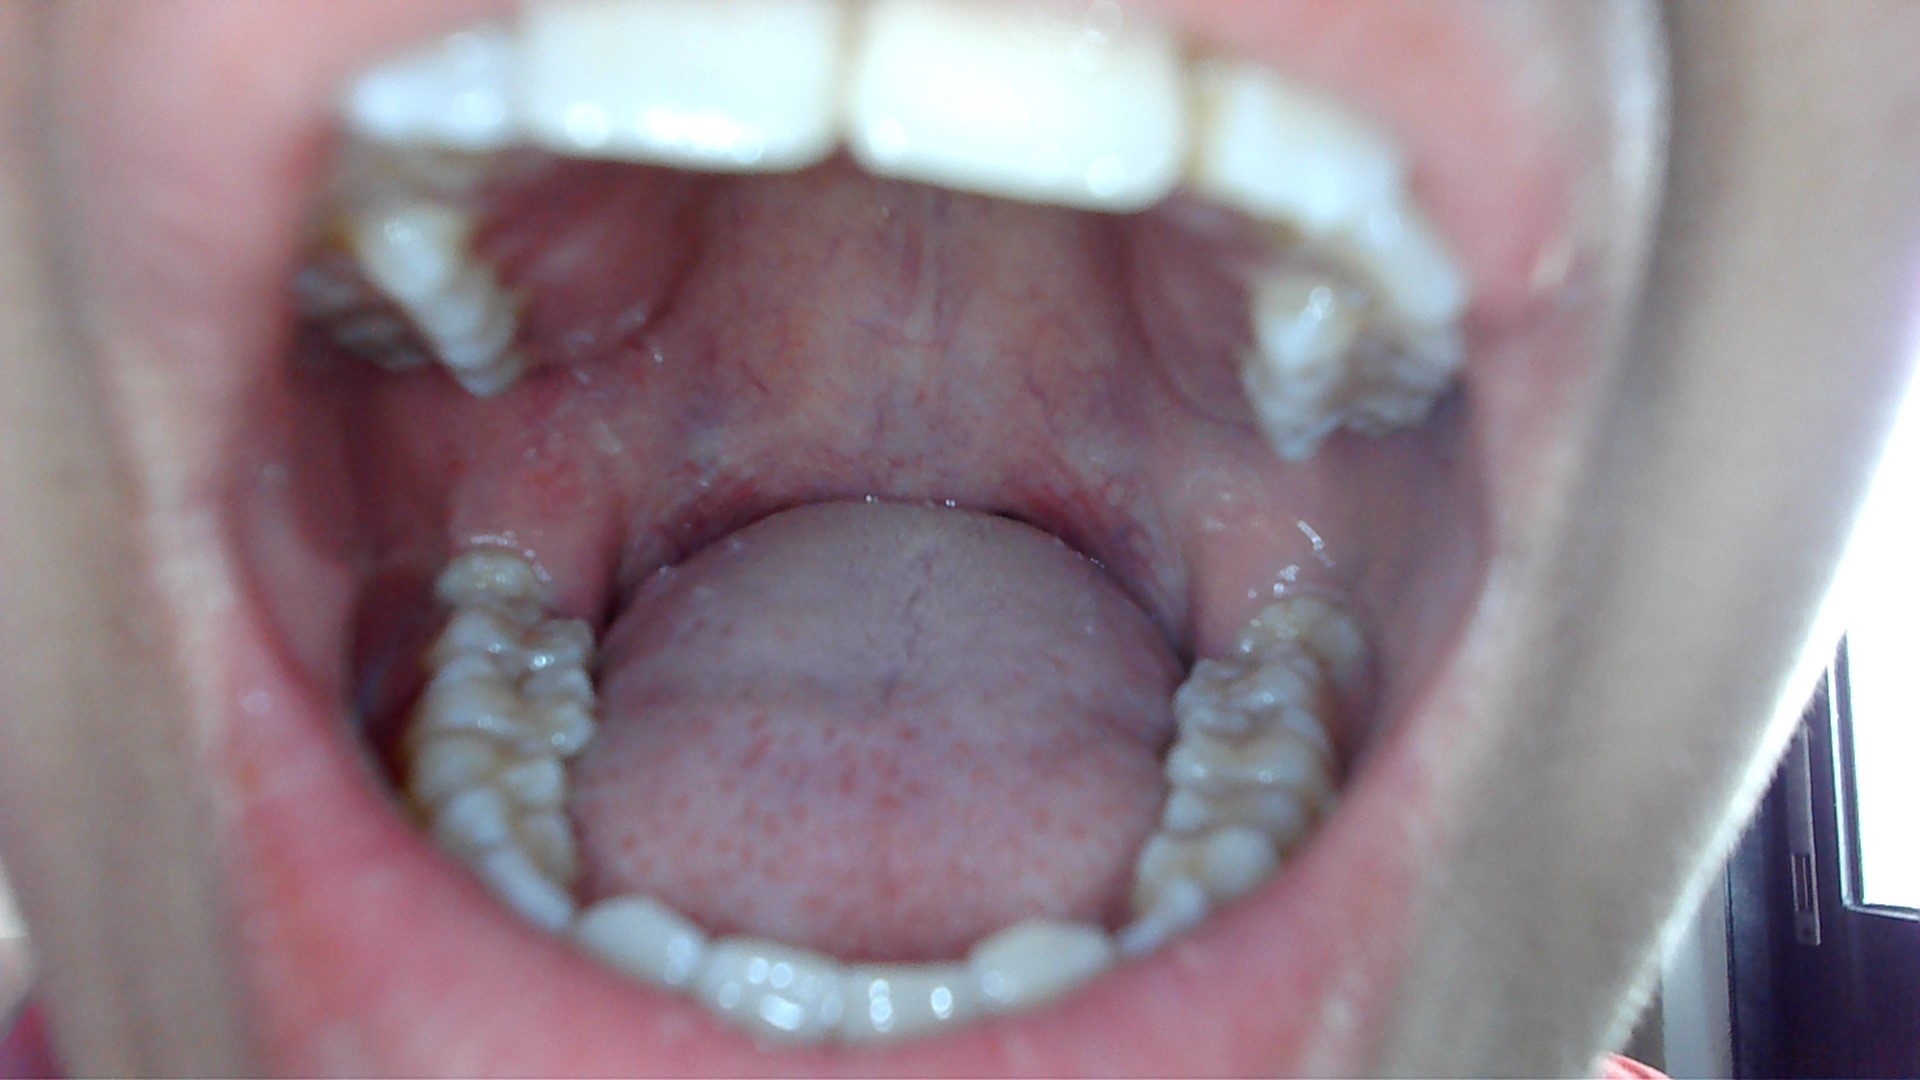throat: (1002, 460, 1154, 572), (642, 448, 814, 535)
